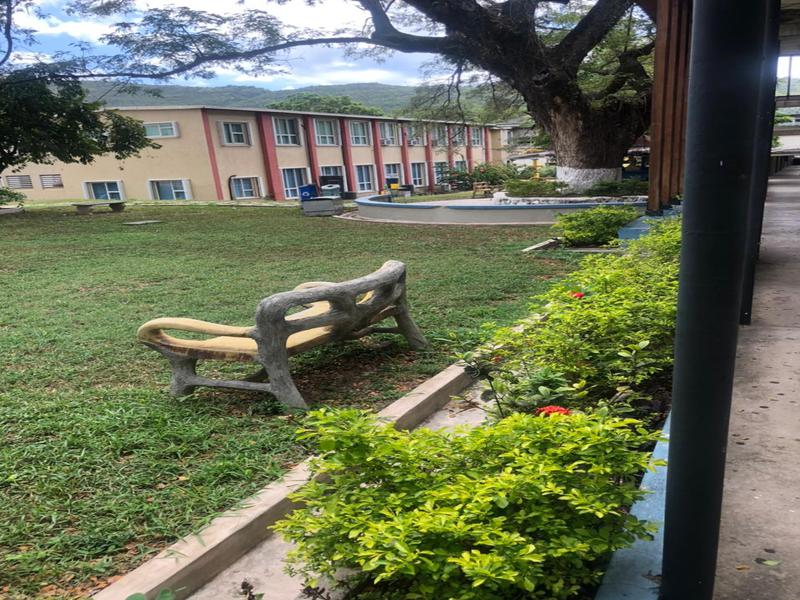stone_bench: (131, 255, 438, 414)
